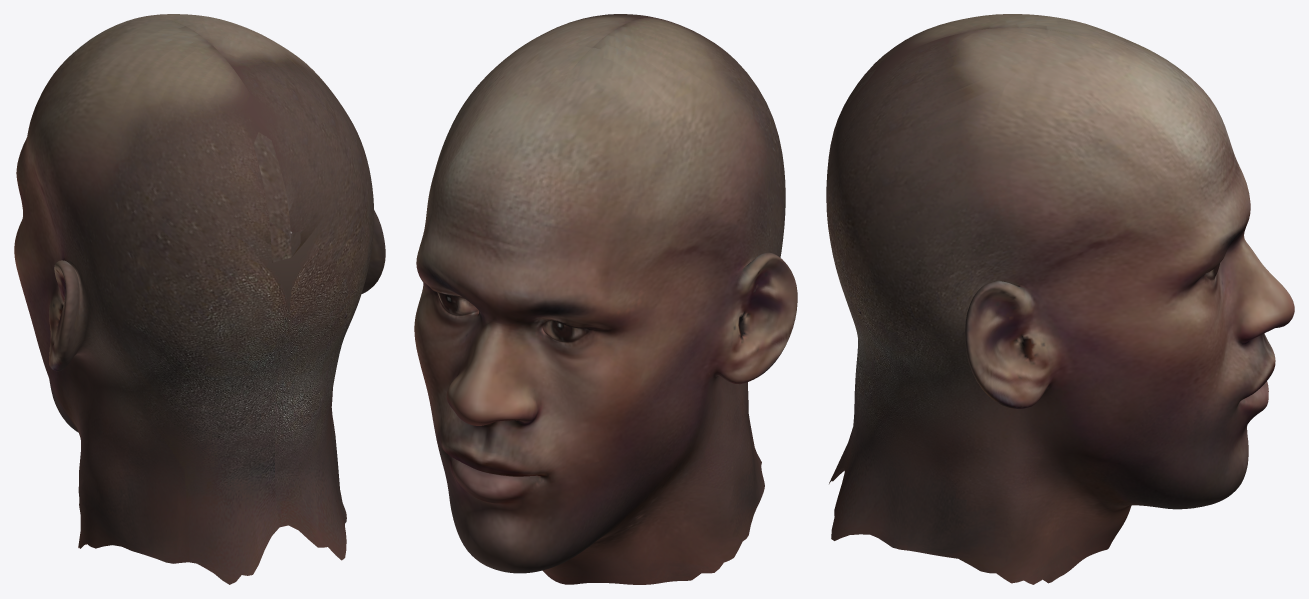
The model's file is michaeljordan.glb.
3 views of the same model, side by side, from view 1: azimuth 30°, elevation 25°; view 2: azimuth 150°, elevation 25°; view 3: azimuth 270°, elevation 25° (orthographic). The views are drawn at different scales.
Parts seen in each view (by area): view 1: Head; view 2: Head; view 3: Head.
Part boxes in pixels (left/top/right/bottom): Head: left=14, top=14, right=385, bottom=584; Head: left=414, top=14, right=797, bottom=584; Head: left=826, top=14, right=1294, bottom=584.
Size of the model in its own units: 0.2521 by 0.371 by 0.3041.
Materials: 2 (1 with a texture image).
